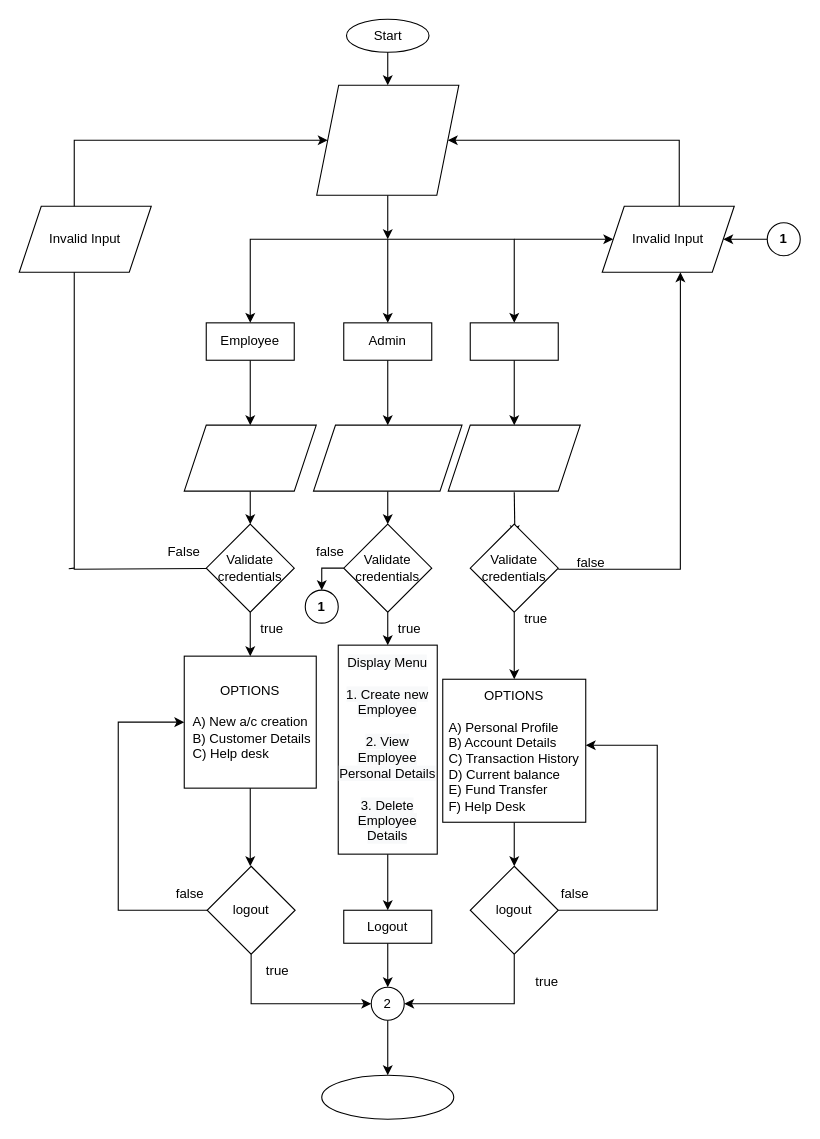
Image size: 820x1139. Some labels were removed from this diagram. Here are the shapes that lost their labels. From the top down, the box of each, then its label:
(316, 84, 459, 195): Accept input admin / emp / customer
(469, 322, 558, 360): Customer
(183, 424, 316, 491): enter employee id and password
(312, 424, 462, 491): enter Admin id and password
(447, 424, 580, 491): enter custid and password
(321, 1074, 454, 1119): End
